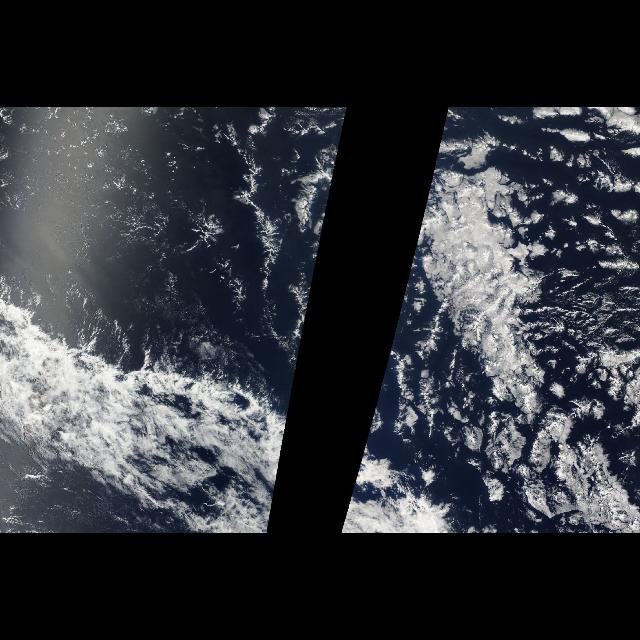Fish: (432, 167, 624, 518)
Sugar: (9, 112, 233, 318)
